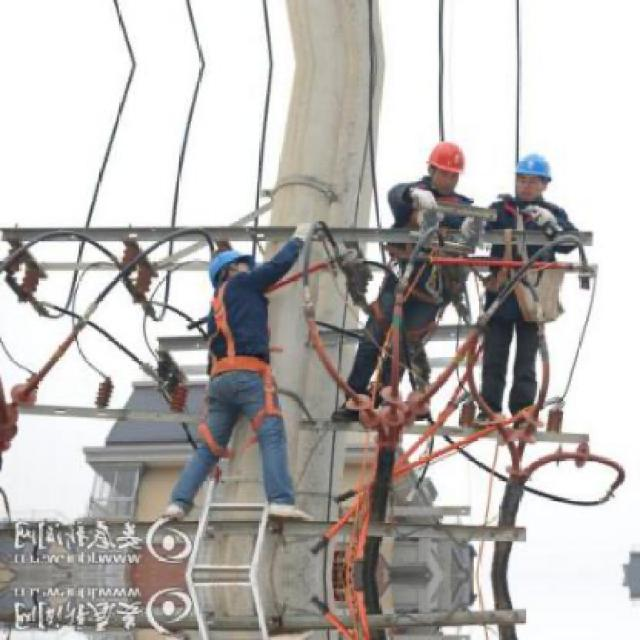helmet: (203, 243, 257, 294), (423, 135, 469, 191), (512, 146, 556, 202)
